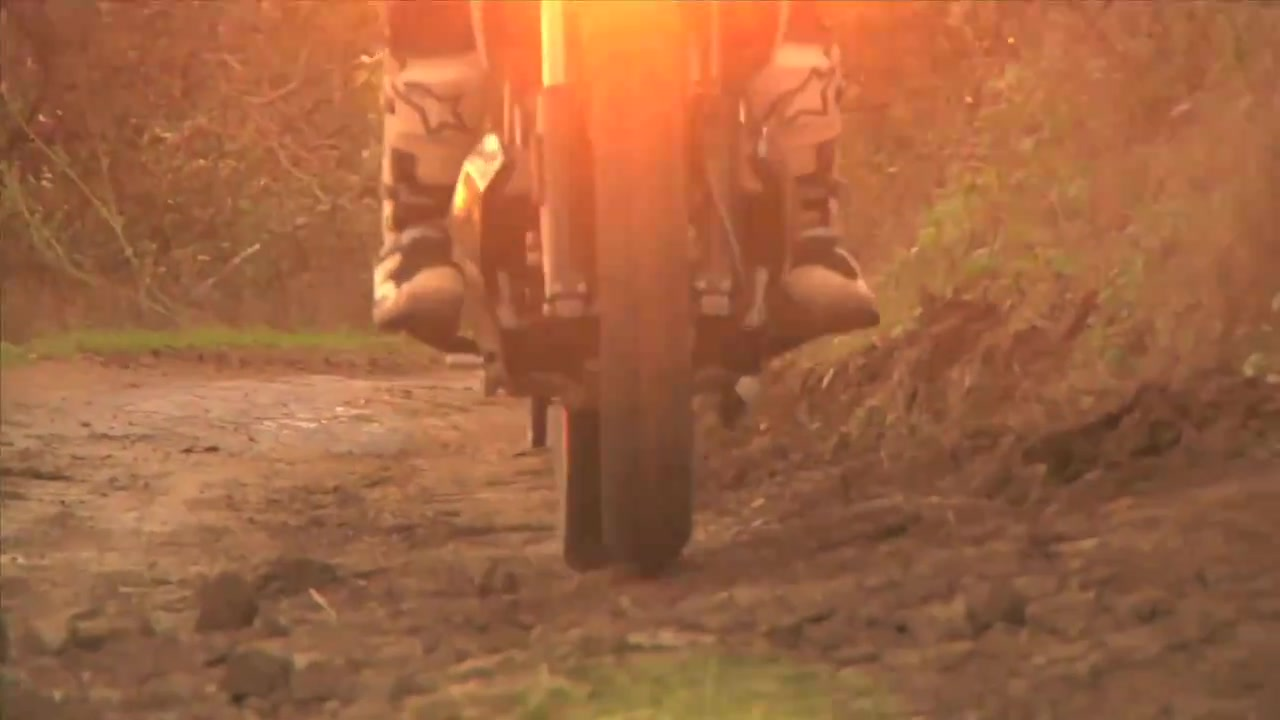motorbike: (465, 5, 763, 579)
